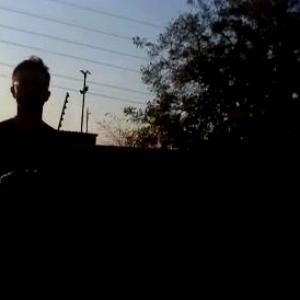follow: (0, 48, 77, 299)
